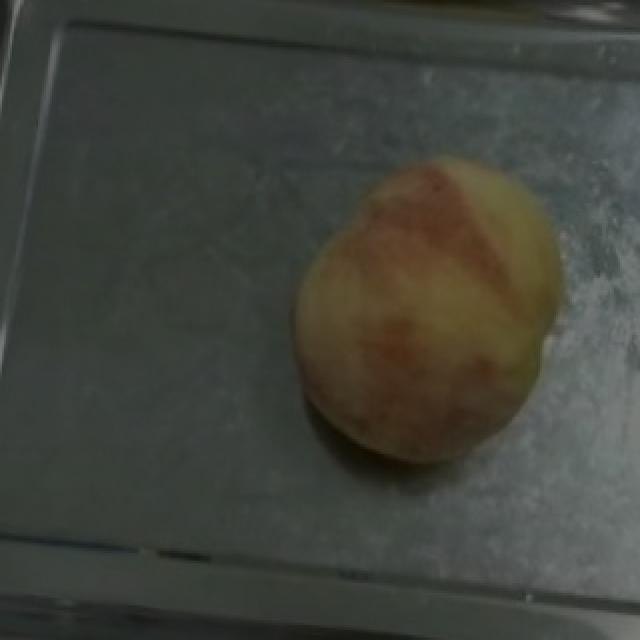Fruit: (268, 191, 574, 481)
